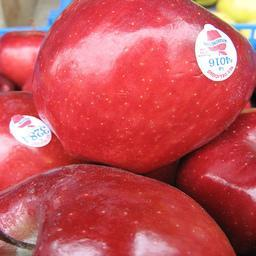apple: (33, 1, 253, 173), (1, 170, 240, 253), (170, 115, 255, 253)
